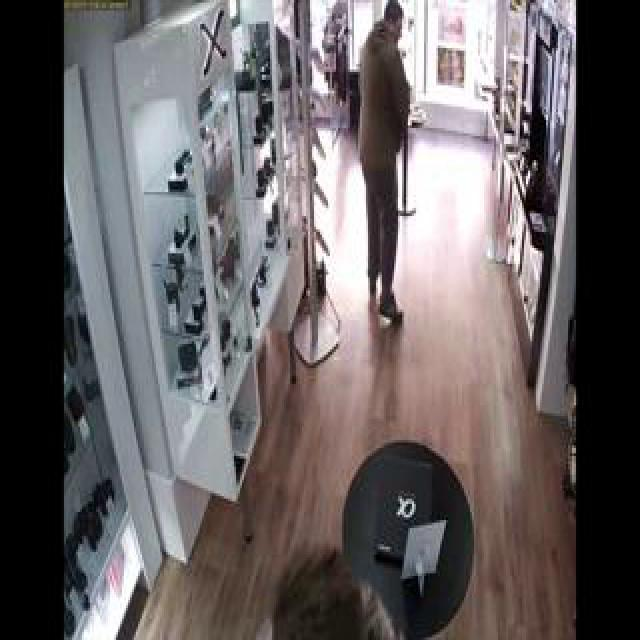shoplifting: (299, 0, 572, 451)
